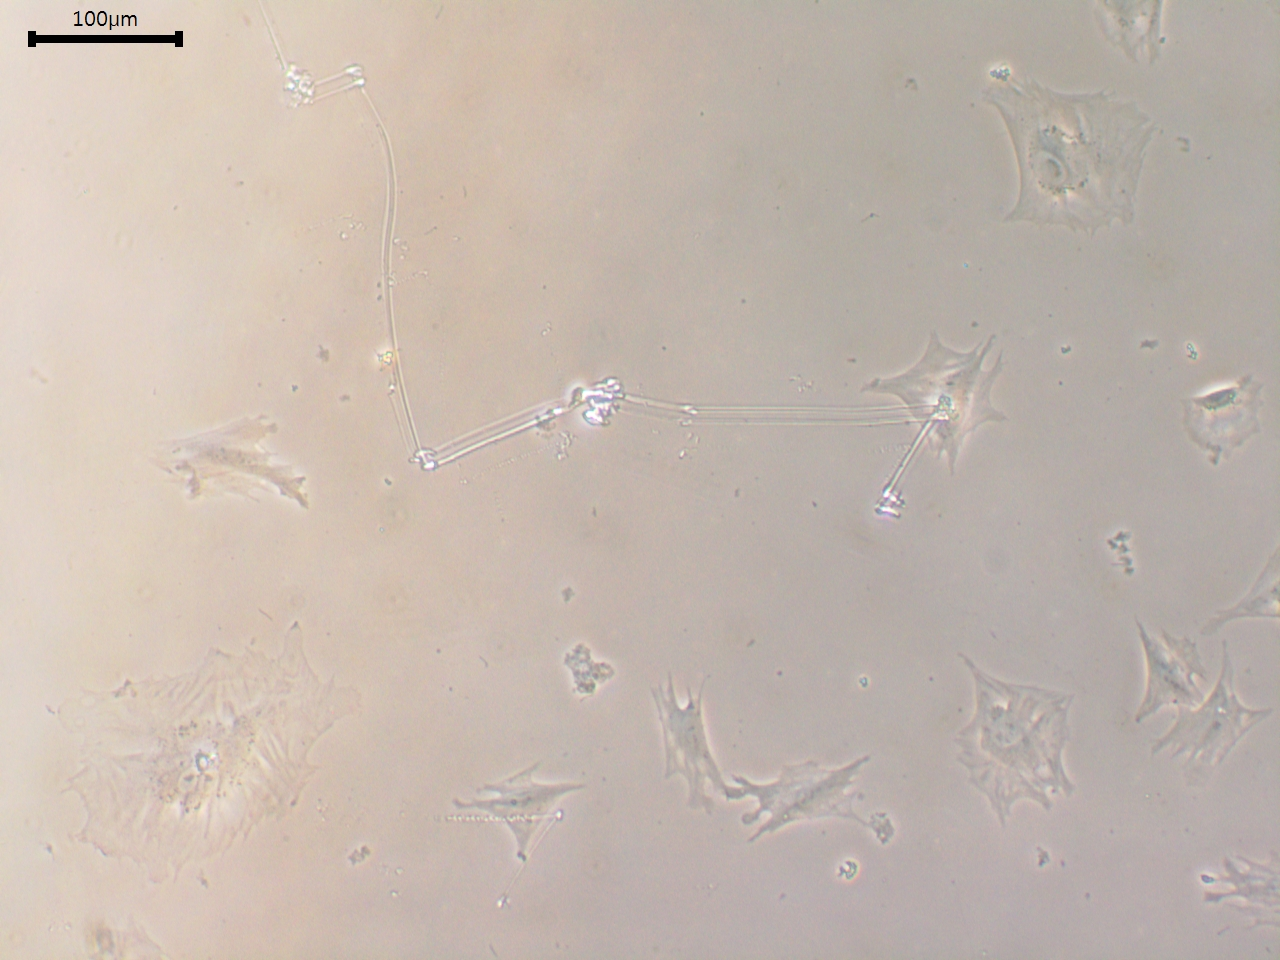large-spread: (47, 610, 357, 922)
medium-polygonal: (440, 753, 587, 881), (730, 750, 887, 855), (1151, 645, 1268, 779), (648, 677, 737, 832), (1130, 624, 1213, 733)
medium-spread: (970, 61, 1184, 238), (934, 640, 1105, 846), (153, 406, 325, 534), (873, 307, 1004, 465)
small-spread: (1158, 358, 1269, 466)
